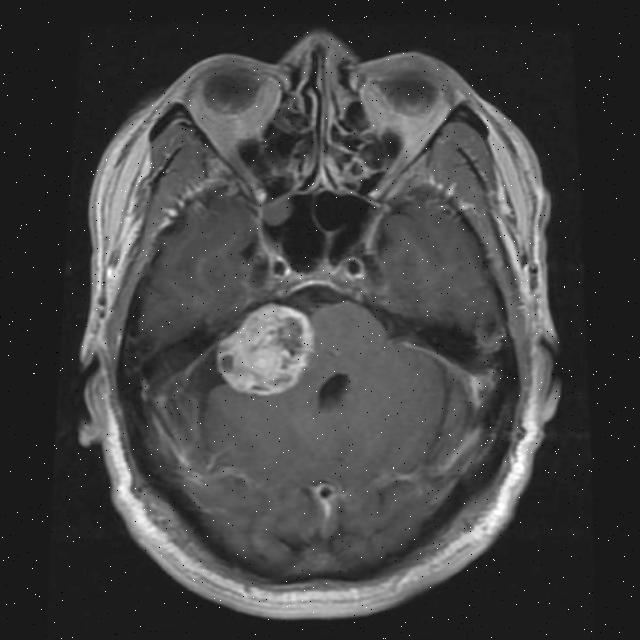Meningioma: (209, 294, 317, 398)
